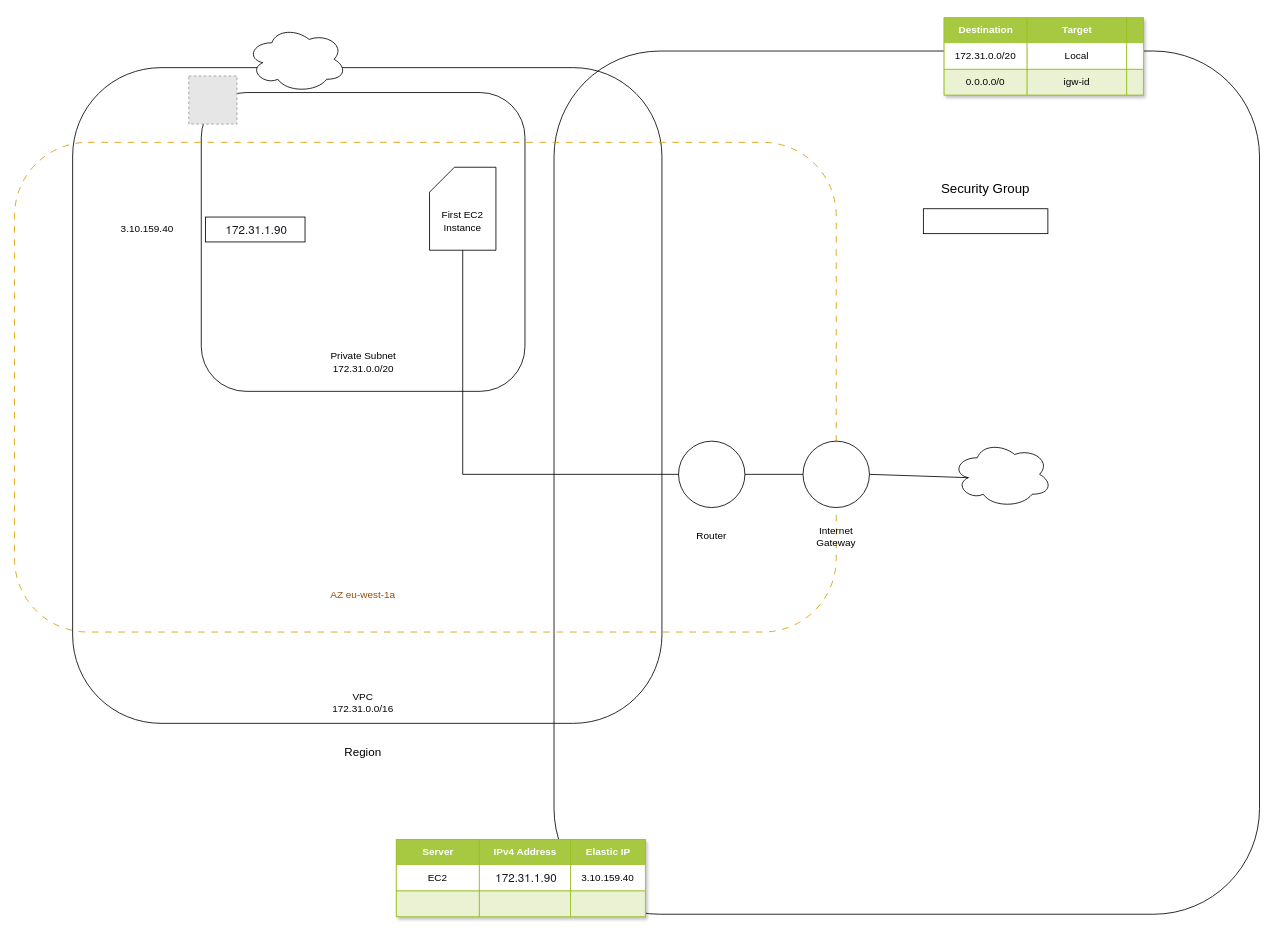
This 1274x937 diagram has some shape labels left out. Grey dashed boxes stand in for pictures. Each missing label, with the centre of its shape:
"launch-wizard-1" goes at (985,221).
"VPC" goes at (296,59).
